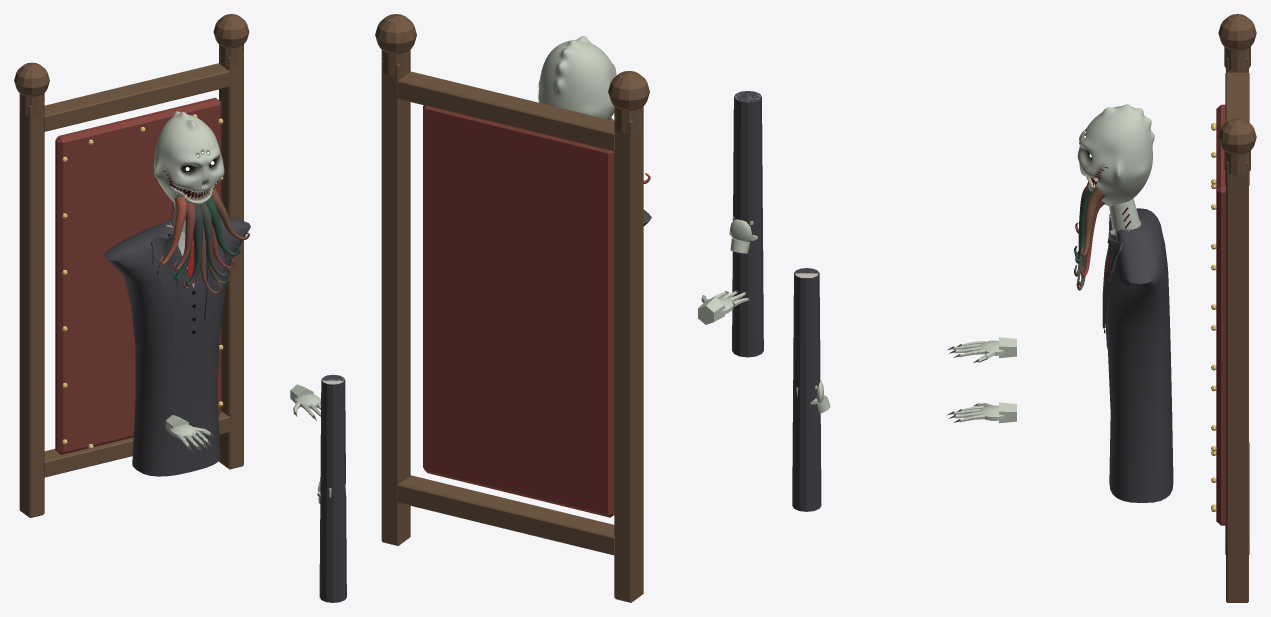
File: dealer.glb
3 renders of one model, left to right at view 1: azimuth 30°, elevation 25°; view 2: azimuth 150°, elevation 25°; view 3: azimuth 270°, elevation 25°, orthographic. The views are drawn at different scales.
Parts seen in each view (by area): view 1: Chair, Body, Head, UpperArmL, HandL, HandR; view 2: Chair, UpperArmL, Head, HandL, GripL; view 3: Chair, Body, Head, UpperArmL, HandL, HandR.
Boxes of the visible parts, x1,y1,x2,y2 form: Chair: (14,14,249,517); Body: (104,203,250,476); Head: (153,111,249,294); UpperArmL: (319,374,346,602); HandL: (165,415,213,451); HandR: (290,384,320,420); Chair: (375,14,649,602); UpperArmL: (732,91,763,357); Head: (538,36,650,183); HandL: (698,290,750,324); GripL: (729,216,753,253); Chair: (1211,14,1256,602); Body: (1102,198,1173,502); Head: (1074,104,1154,290); UpperArmL: (792,268,821,511); HandL: (947,337,1016,362); HandR: (947,402,1016,423).
Size of the model in its own units: 1.11 by 2.06 by 1.81.
